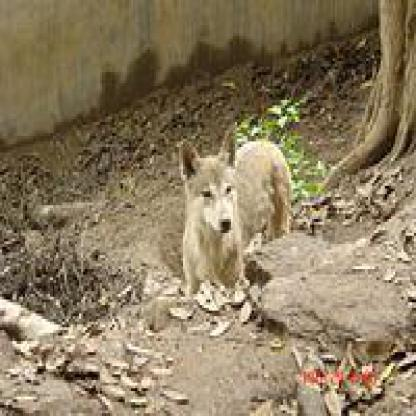dhole: (179, 125, 291, 288)
